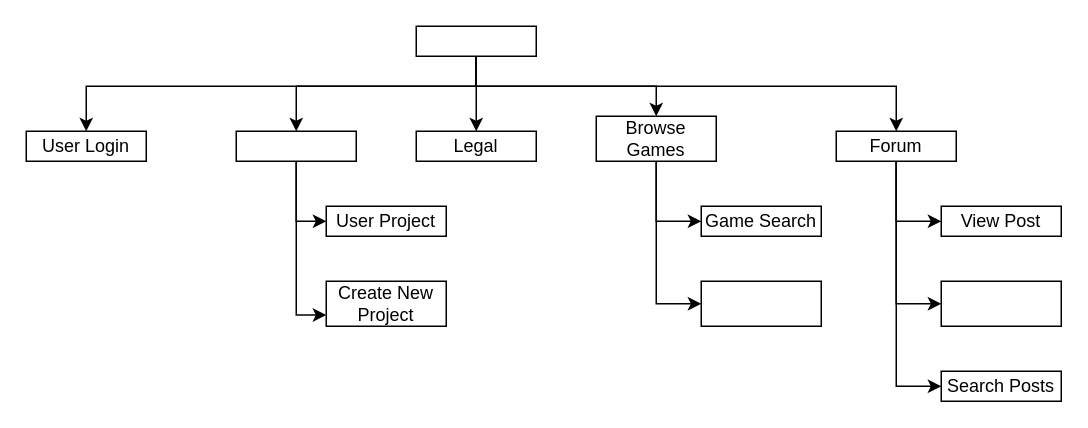
The diagram is 1088 pixels wide and 428 high, and some of its shapes have lost their labels. Each missing label, with the centre of its shape:
Create New Post: [1000,303]
Home: [475,40]
User Page: [295,145]
View/Play Game: [760,303]
